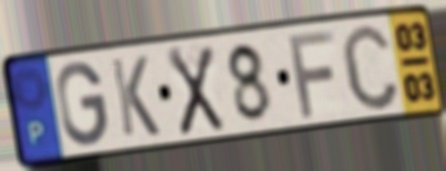8: (225, 40, 276, 124)
C: (338, 20, 402, 113)
F: (285, 27, 338, 120)
G: (54, 59, 110, 149)
K: (108, 53, 163, 139)
X: (164, 43, 227, 139)
